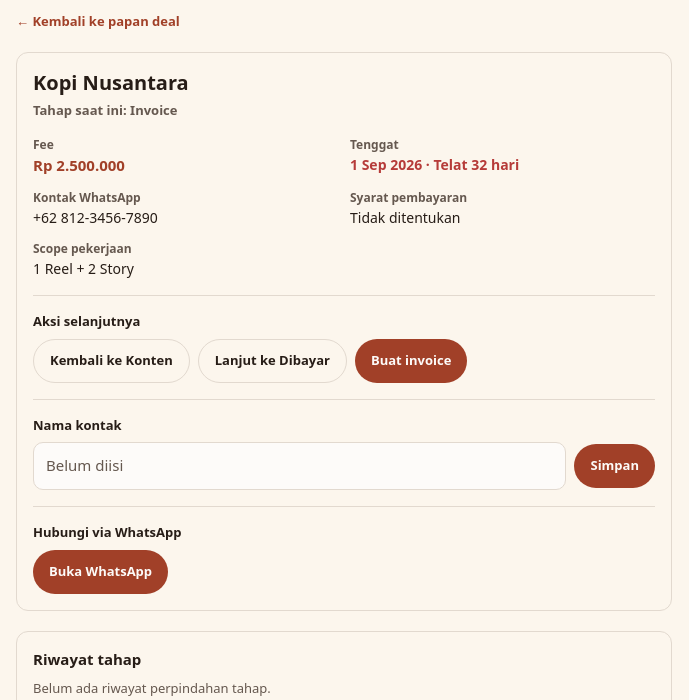
Test case: DealDetailClient — next action (deal↔invoice continuity) › offers Buat invoice for a deal at the Invoice stage with no invoice yet, and shows a link to the created invoice on success
The width and height of the screenshot is (689, 700).
Click the button "Buat invoice" at (411, 361), box [355, 339, 467, 383]
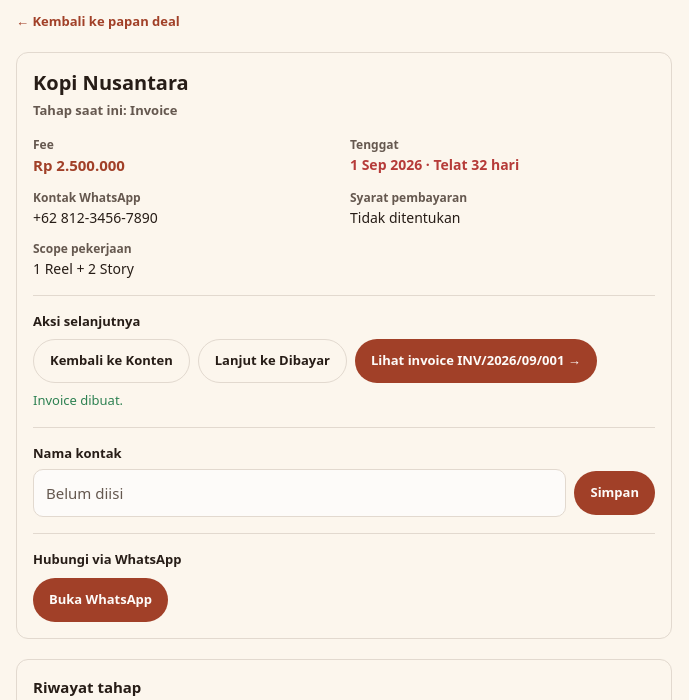
Expected: the button "Buat invoice" is gone
